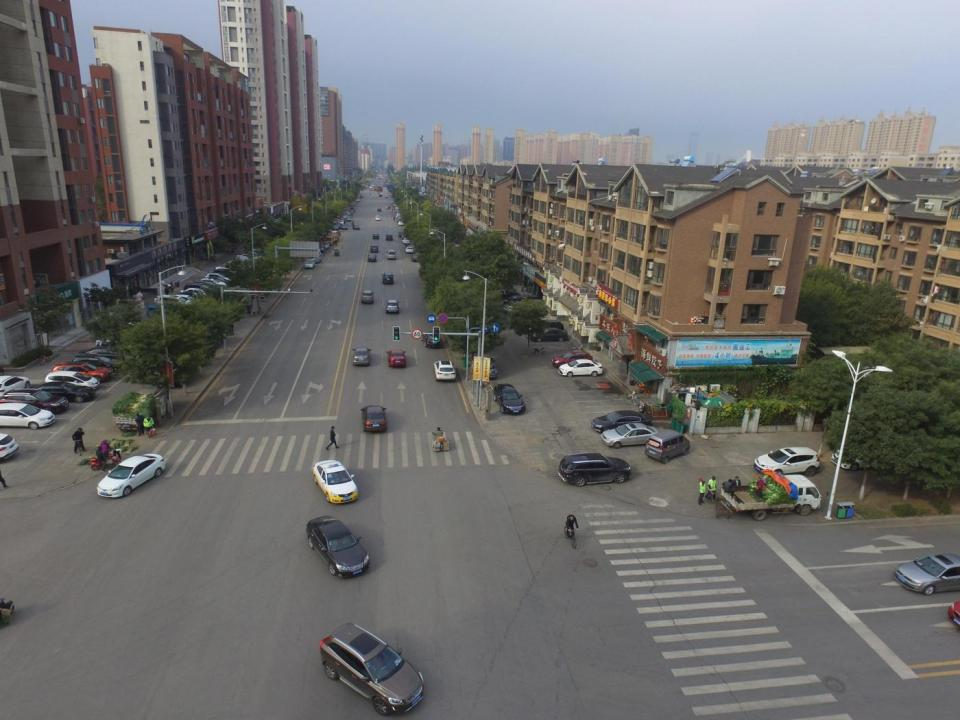car: (321, 624, 425, 713), (306, 514, 370, 578), (95, 454, 167, 499), (891, 554, 960, 594), (556, 456, 632, 486), (313, 458, 359, 506), (754, 448, 822, 478), (831, 437, 892, 468), (2, 387, 70, 413), (600, 422, 663, 447), (589, 410, 652, 435), (0, 402, 54, 429), (31, 381, 94, 401), (51, 363, 109, 382), (72, 354, 126, 373), (45, 371, 99, 389), (495, 384, 525, 416), (0, 373, 30, 403), (79, 348, 128, 365), (360, 405, 387, 435), (552, 350, 592, 370), (559, 362, 603, 379), (531, 327, 569, 344), (432, 360, 457, 384), (474, 357, 500, 379), (530, 321, 564, 335), (387, 348, 406, 368), (352, 347, 370, 368), (385, 298, 401, 316), (360, 289, 374, 305), (382, 275, 396, 285), (304, 258, 316, 269), (387, 250, 396, 260), (367, 255, 378, 262), (372, 232, 380, 240), (370, 244, 377, 253), (412, 255, 421, 262), (386, 234, 394, 241), (406, 247, 414, 254), (352, 224, 360, 230), (402, 238, 409, 244), (375, 215, 381, 220), (346, 216, 352, 221), (342, 224, 347, 229), (376, 208, 382, 212)
truck: (720, 476, 822, 516), (115, 383, 168, 429)
van: (645, 430, 691, 464)
